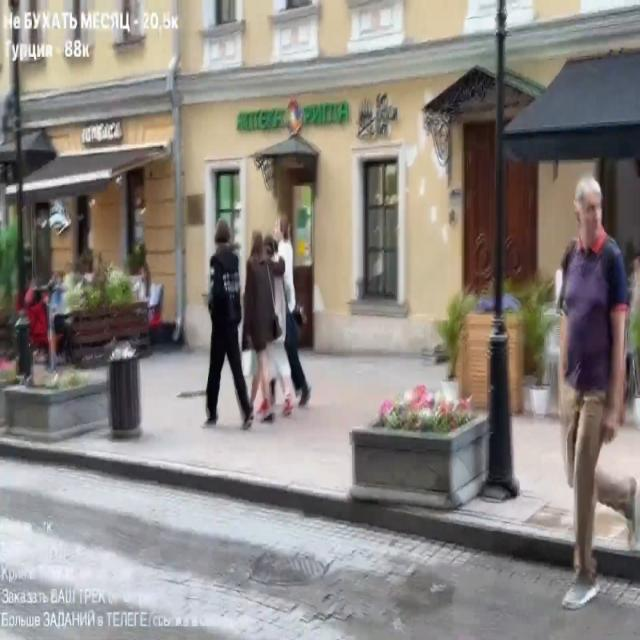Person: (551, 174, 636, 606), (242, 231, 309, 423), (201, 217, 257, 427)
